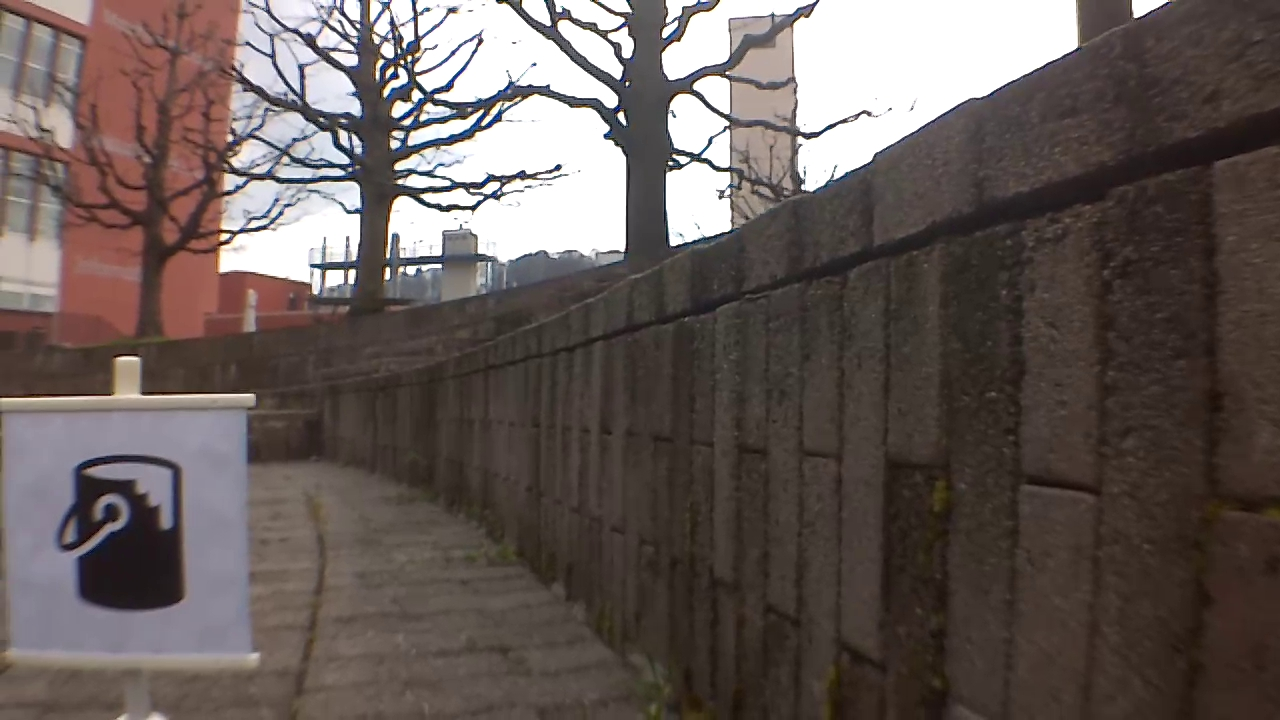bucket: (52, 457, 181, 610)
